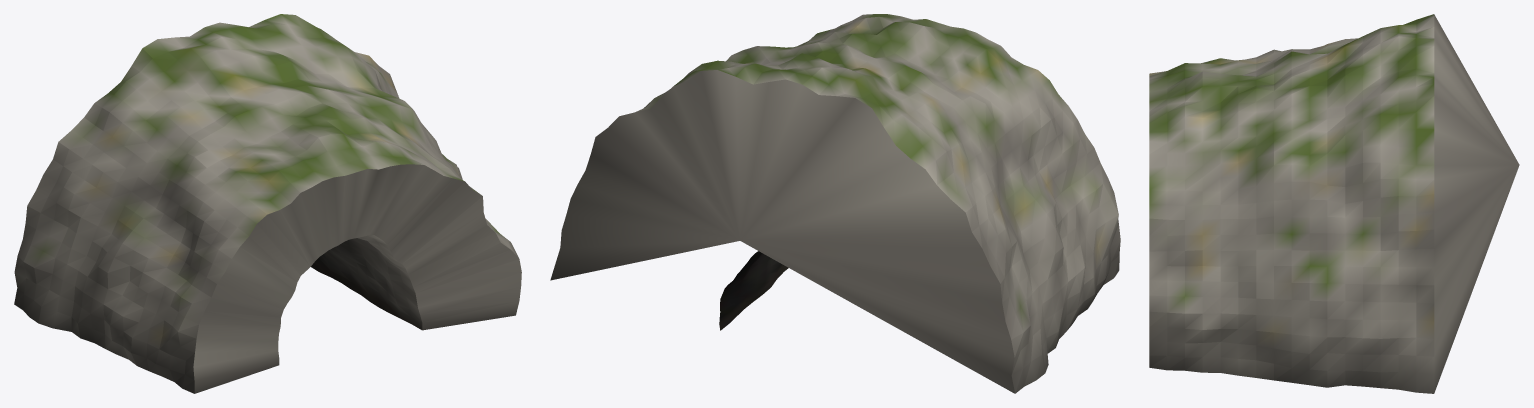
File: cave-mouth-a.lod0.glb
3 renders of one model, left to right at view 1: azimuth 30°, elevation 25°; view 2: azimuth 150°, elevation 25°; view 3: azimuth 270°, elevation 25°, orthographic. The views are drawn at different scales.
Size of the model in its own units: 8.82 by 4.7 by 6.5.
